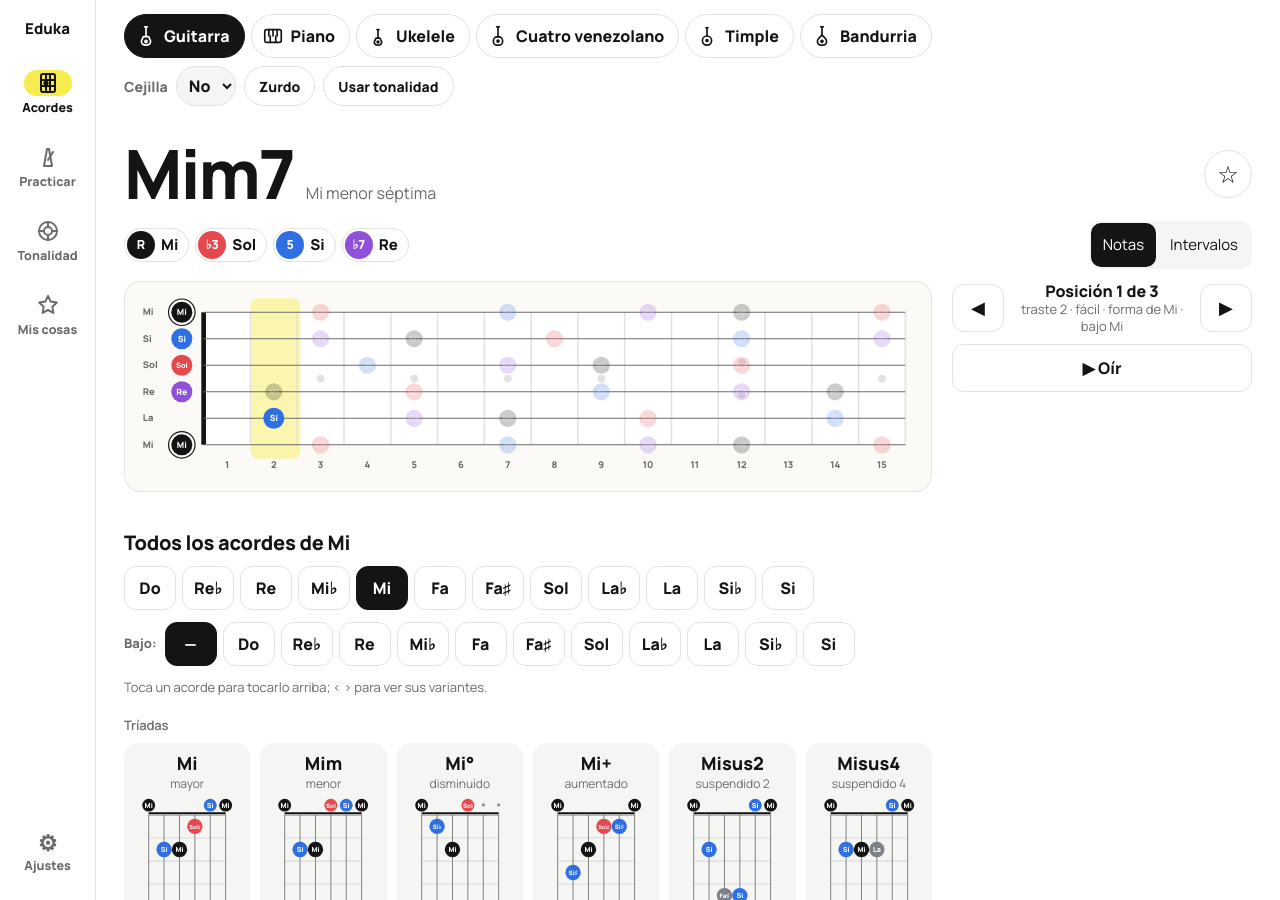
Ajustes › cambiar a English traduce la navegación
Click the button "⚙ Ajustes": (48, 852) x1=8 y1=818 x2=87 y2=886
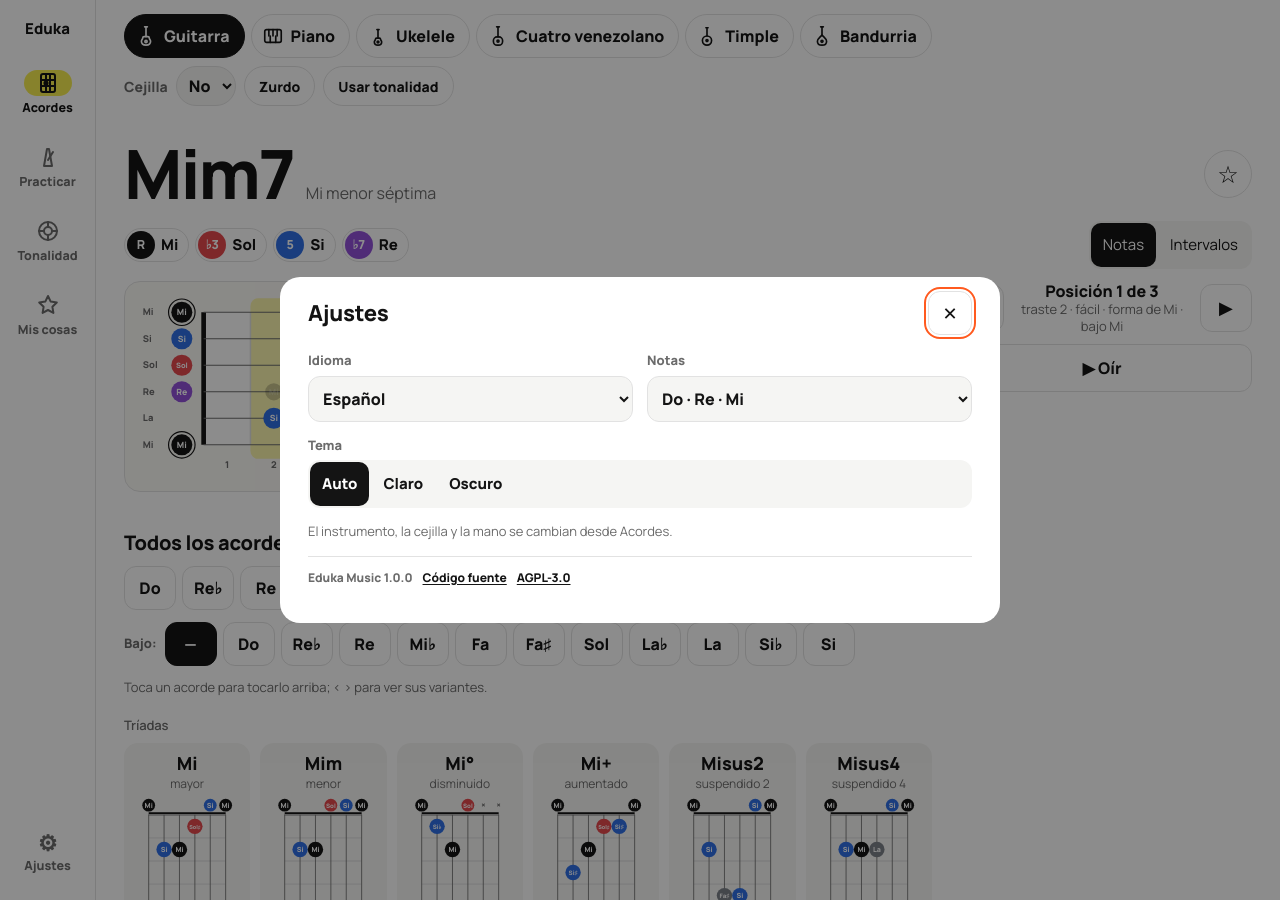
Select "English" in the dropdown labelled "Idioma": (470, 399) x1=308 y1=376 x2=633 y2=422
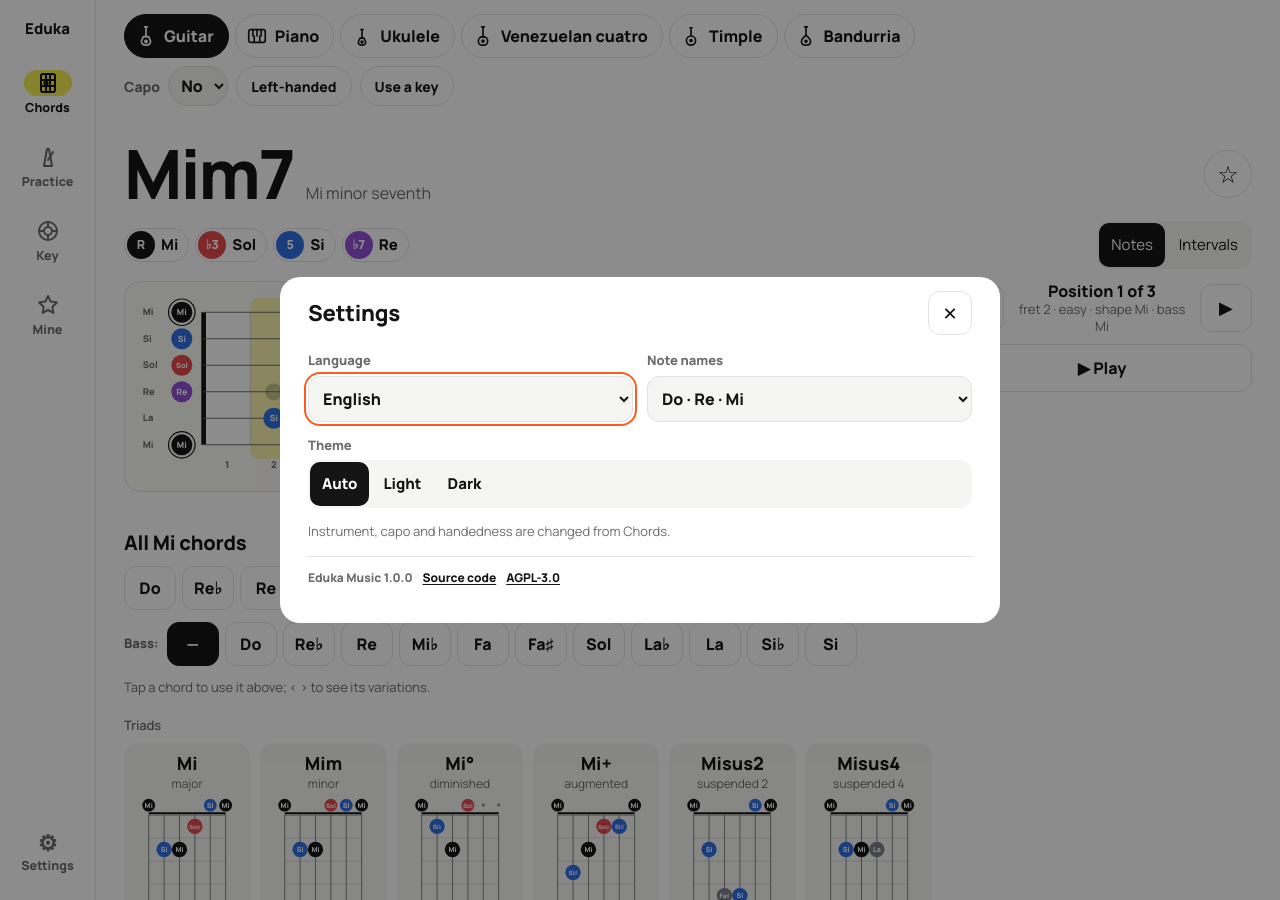
Expected: the link "Chords" is shown, x1=24 y1=70 x2=72 y2=116
Expected: the link "Practice" is shown, x1=22 y1=144 x2=73 y2=190
